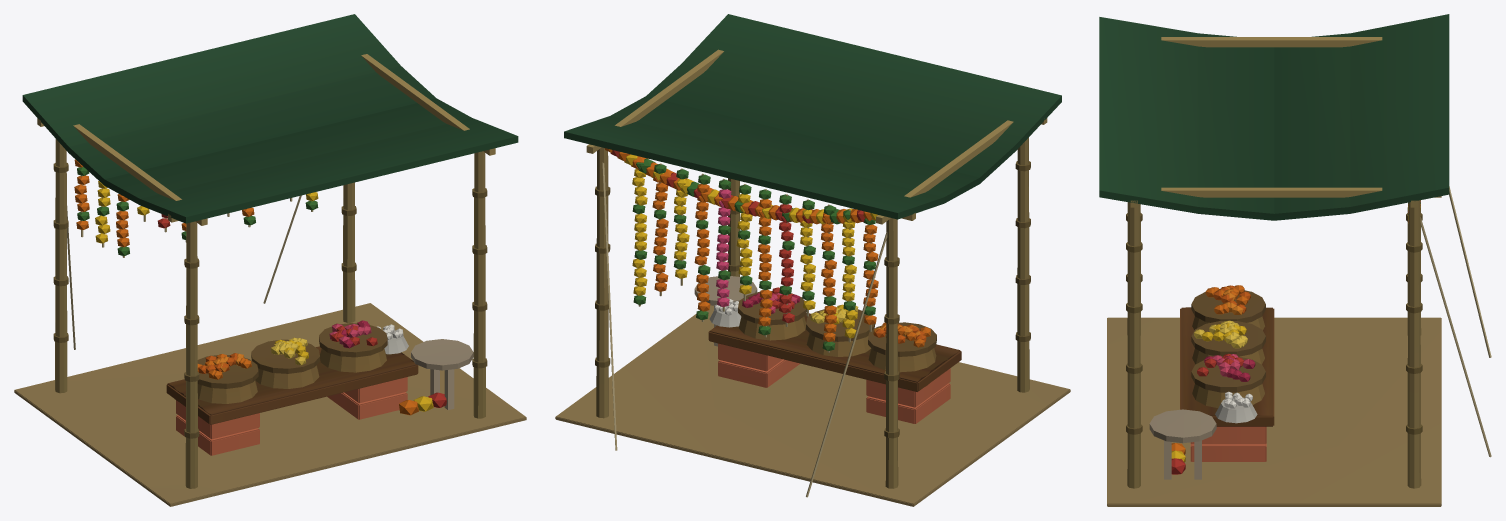
The model's file is flower_stall.glb.
3 renders of one model, left to right at view 1: azimuth 30°, elevation 25°; view 2: azimuth 150°, elevation 25°; view 3: azimuth 270°, elevation 25°, orthographic. The views are drawn at different scales.
Visible parts, largest first — view 1: hb_props, hb_main, hb_brick; view 2: hb_props, hb_main, hb_brick; view 3: hb_props, hb_main, hb_brick.
Boxes of the visible parts, x1,y1,x2,y2 form: hb_props: [14, 14, 526, 506]; hb_main: [166, 346, 418, 424]; hb_brick: [176, 377, 407, 455]; hb_props: [555, 14, 1070, 506]; hb_main: [708, 313, 961, 391]; hb_brick: [718, 343, 950, 423]; hb_props: [1099, 14, 1491, 506]; hb_main: [1180, 307, 1274, 426]; hb_brick: [1190, 426, 1266, 461].
Size of the model in its own units: 2.9 by 2.27 by 2.58.
